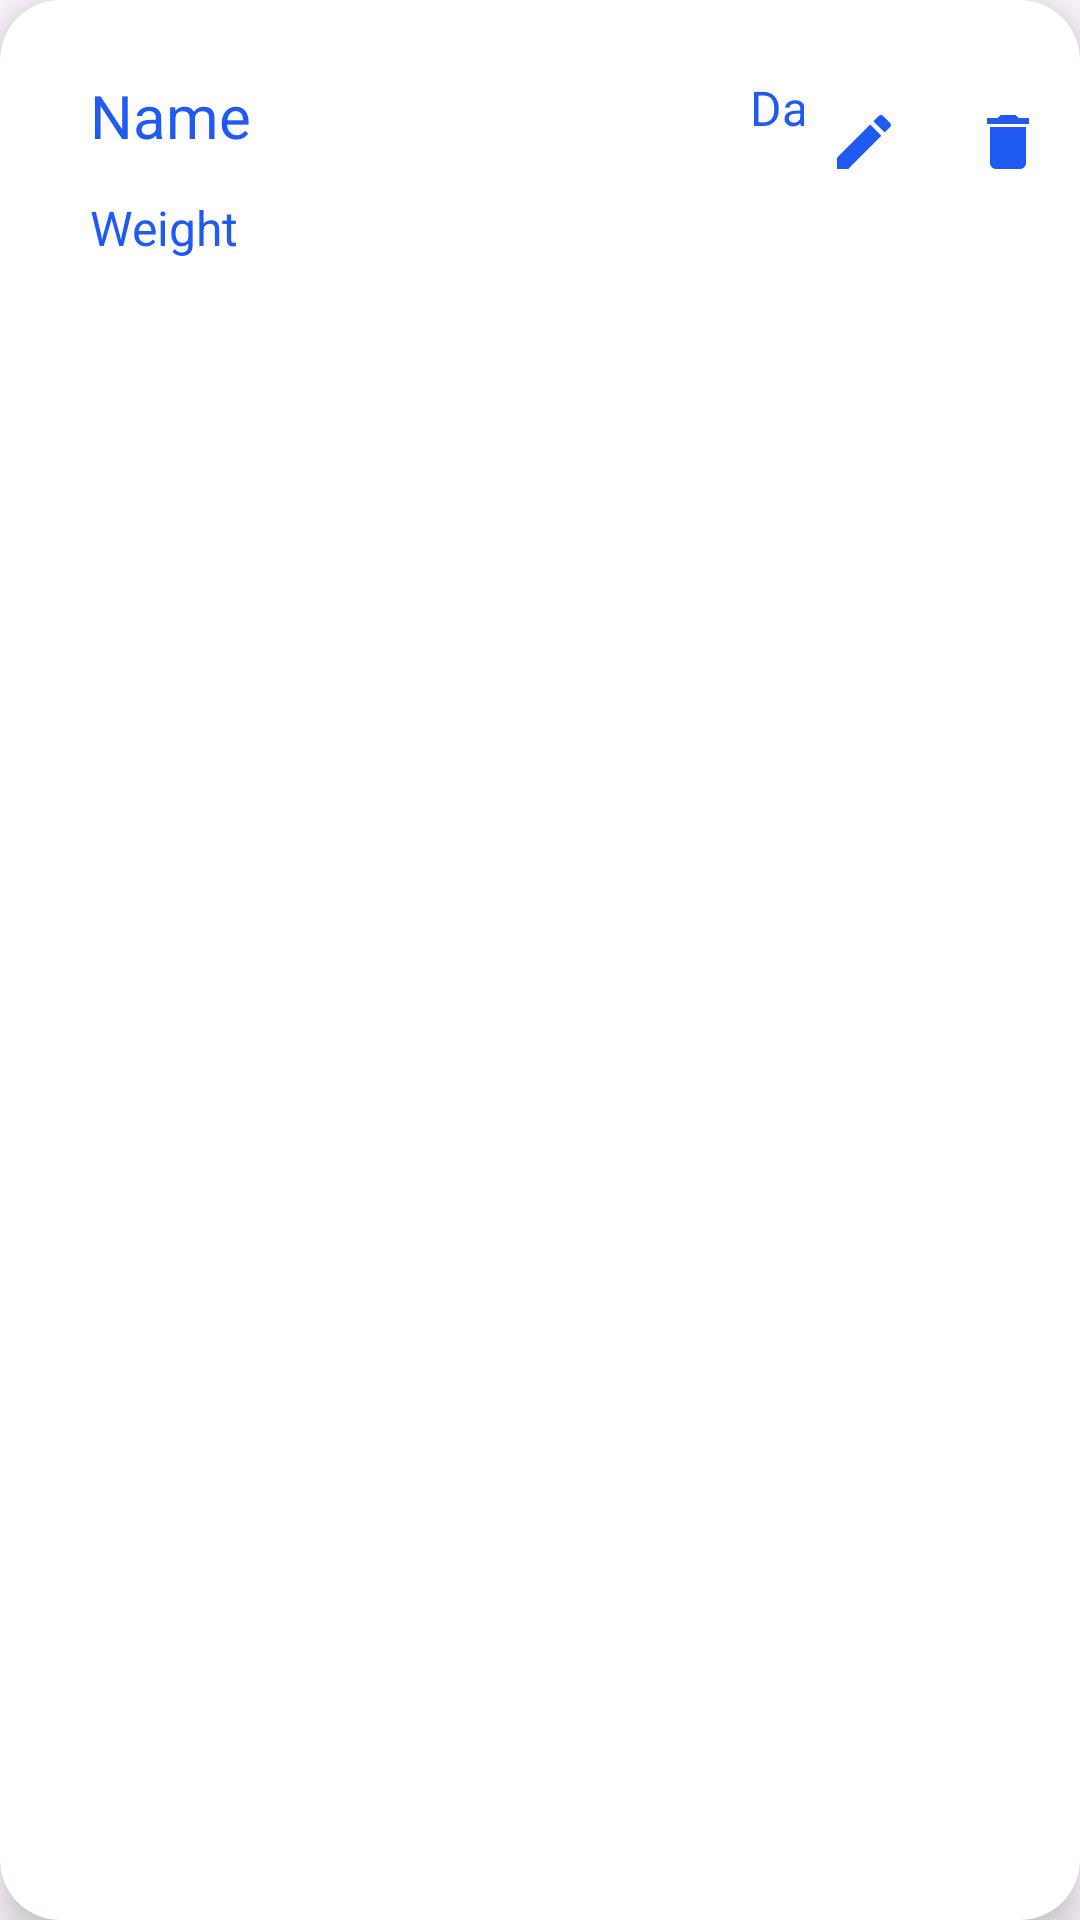

Icon click points for this 1080 × 1920 phone screenshot, format [x,y]:
Delete Repat: [1008,142]
Edit Repat: [864,142]
